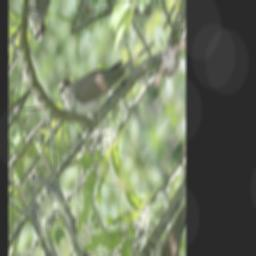Cuckoo: (56, 0, 157, 146)
